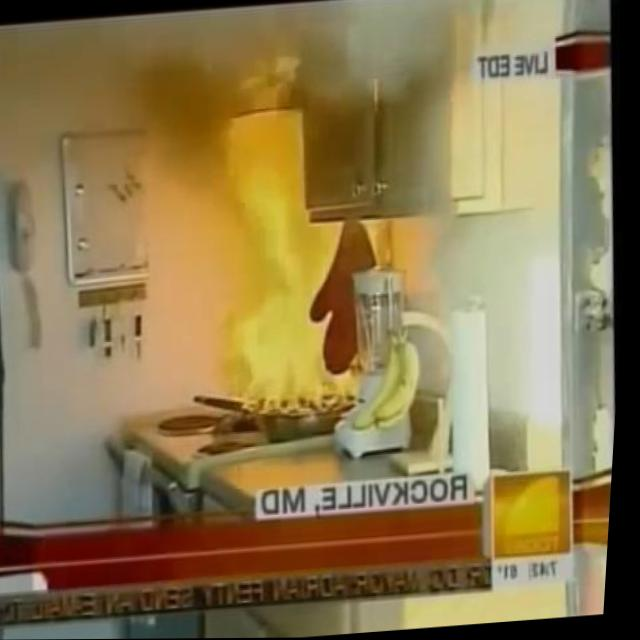fire: (191, 31, 401, 418)
